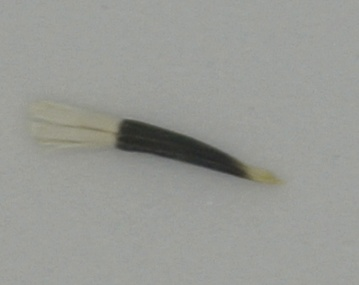เมล็ดดีติดกัน: (28, 94, 287, 191)
